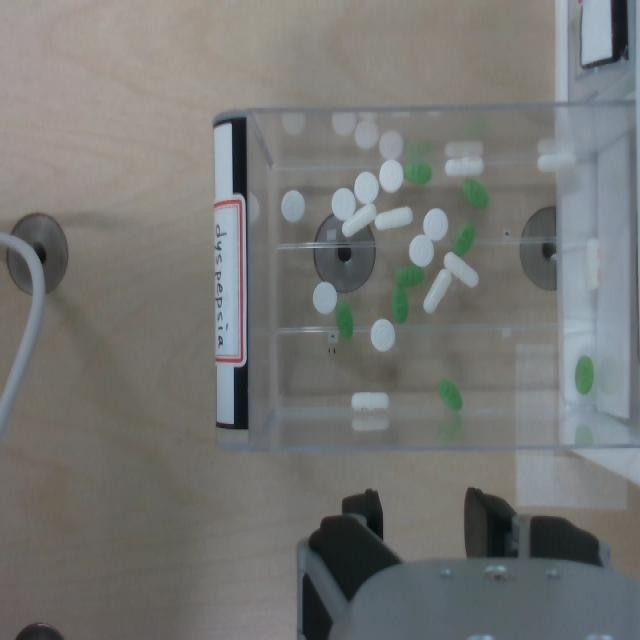magmil_tab: (423, 208, 448, 241), (370, 319, 395, 352), (354, 172, 379, 204), (379, 159, 403, 192), (281, 189, 304, 223), (331, 188, 355, 220), (409, 235, 433, 267), (313, 281, 336, 313)
medilacsenteric_tab: (423, 269, 451, 313), (444, 252, 478, 287), (342, 204, 376, 236), (537, 147, 575, 171), (375, 207, 412, 229), (586, 237, 601, 289), (445, 157, 483, 176), (351, 392, 388, 409)
nexilen_tab: (575, 355, 594, 395), (452, 223, 475, 256), (462, 179, 488, 208), (439, 380, 462, 411), (336, 300, 353, 339), (396, 264, 424, 287), (404, 161, 431, 184), (392, 285, 408, 323)
